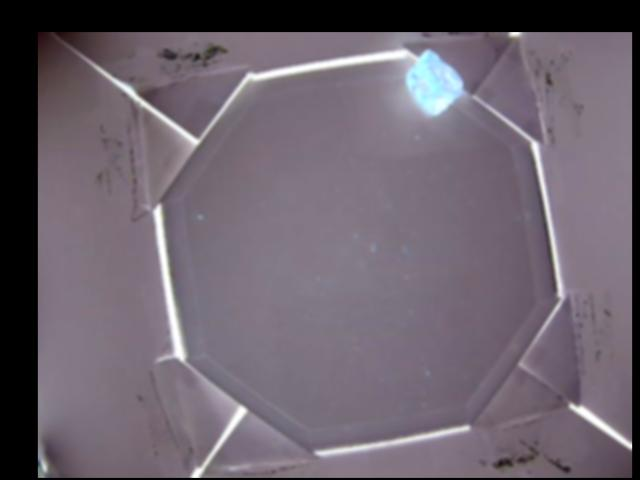Brisk: (404, 48, 465, 114)
